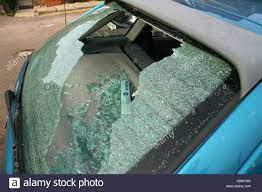Rear-windscreen-Damage: (7, 1, 220, 174)
